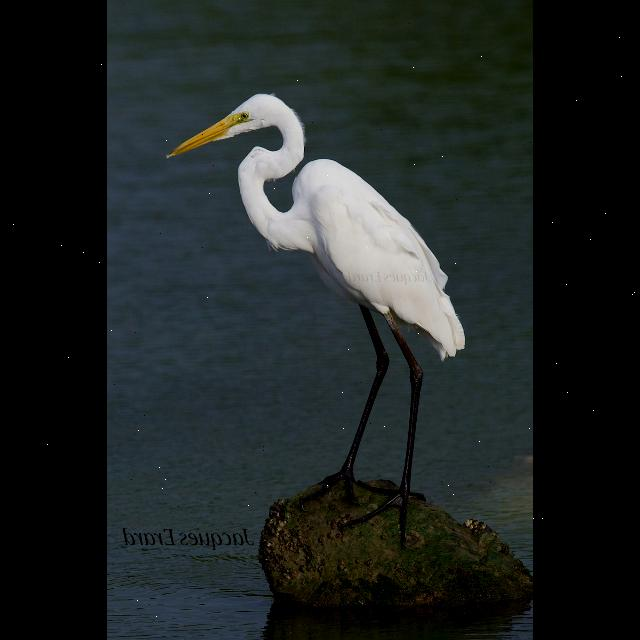egret: (164, 92, 464, 504)
